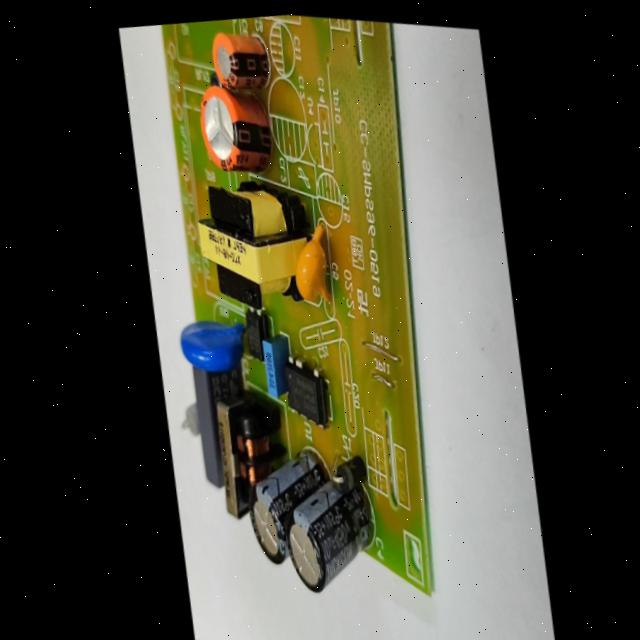Cap1: (189, 75, 284, 186)
Cap2: (202, 16, 278, 101)
Cap3: (240, 482, 297, 571)
Cap4: (276, 473, 391, 613)
MOSFET: (275, 343, 339, 440)
Mov: (173, 302, 255, 384)
Resistor: (174, 396, 204, 443)
Transformer: (180, 169, 323, 322), (209, 380, 290, 490)
